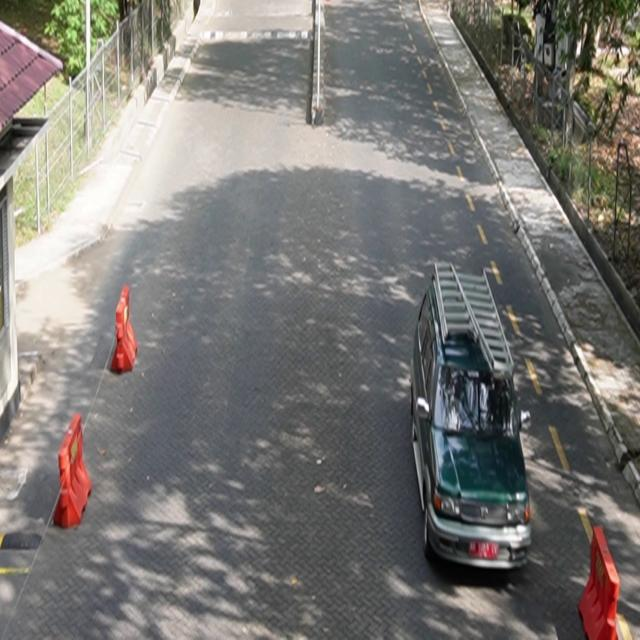car: (410, 260, 533, 573)
